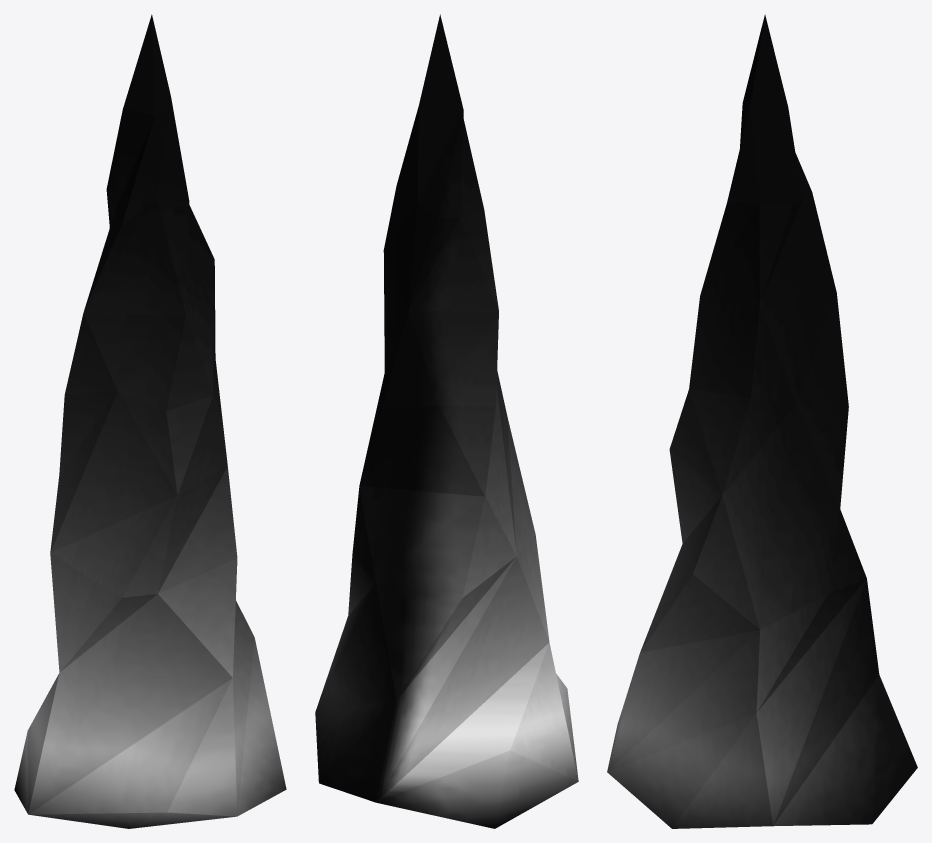
File: 0346_jiao2.glb
3 renders of one model, left to right at view 1: azimuth 30°, elevation 25°; view 2: azimuth 150°, elevation 25°; view 3: azimuth 270°, elevation 25°, orthographic. The views are drawn at different scales.
Size of the model in its own units: 0.7562 by 2.2 by 0.7844.
1 material, 1 textured.
